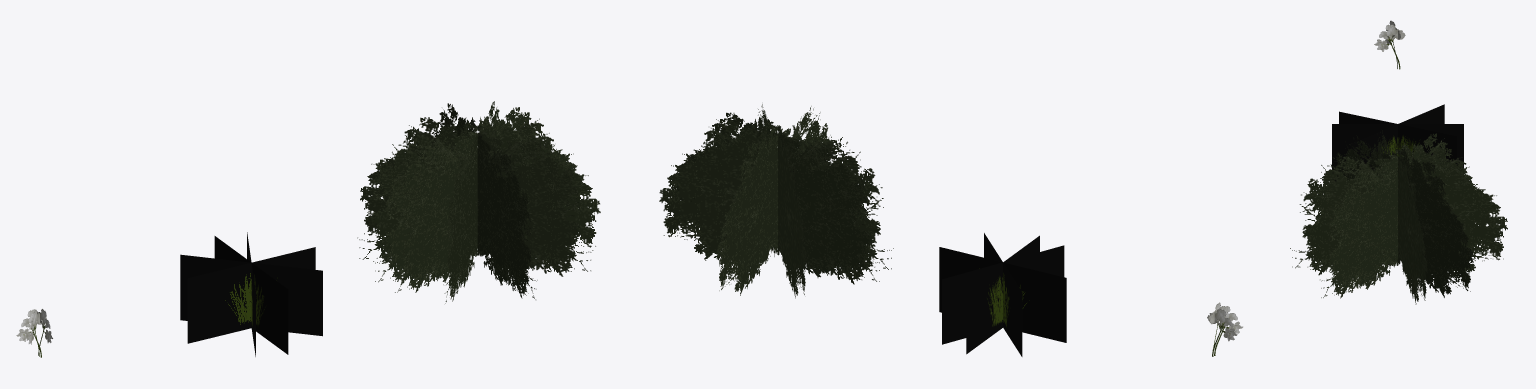
The model's file is FOLIAGE.fbx.
3 renders of one model, left to right at view 1: azimuth 30°, elevation 25°; view 2: azimuth 150°, elevation 25°; view 3: azimuth 270°, elevation 25°, orthographic. The views are drawn at different scales.
Visible parts, largest first — view 1: bush_foliage, grass, lily; view 2: bush_foliage, grass, lily; view 3: bush_foliage, grass, lily.
Boxes of the visible parts, x1,y1,x2,y2 form: bush_foliage: (357, 101, 600, 303); grass: (180, 232, 322, 356); lily: (16, 309, 52, 357); bush_foliage: (659, 104, 893, 298); grass: (939, 233, 1066, 356); lily: (1207, 302, 1242, 356); bush_foliage: (1290, 130, 1507, 304); grass: (1332, 104, 1463, 181); lily: (1374, 20, 1405, 69).
Size of the model in its own units: 245 by 100 by 100.
